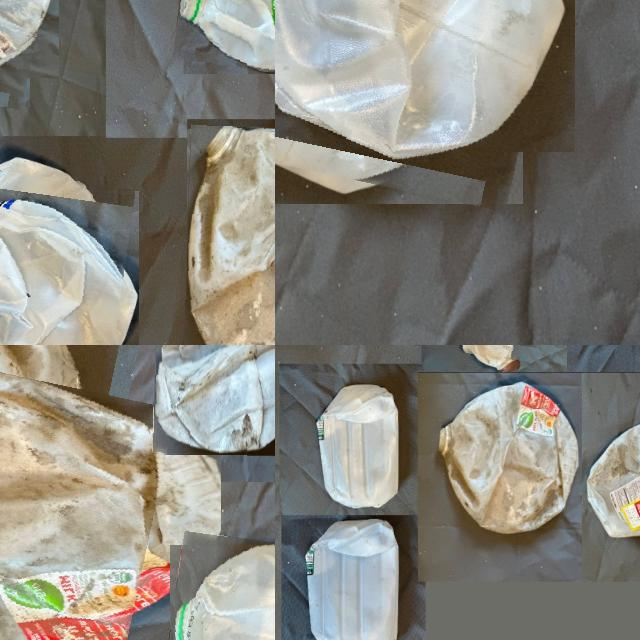milk-jug: (275, 0, 566, 195), (0, 345, 170, 640), (0, 166, 128, 345), (440, 384, 580, 540), (183, 126, 275, 345), (154, 345, 275, 456), (301, 522, 400, 640), (163, 537, 275, 640), (316, 381, 401, 512), (590, 413, 640, 542)
